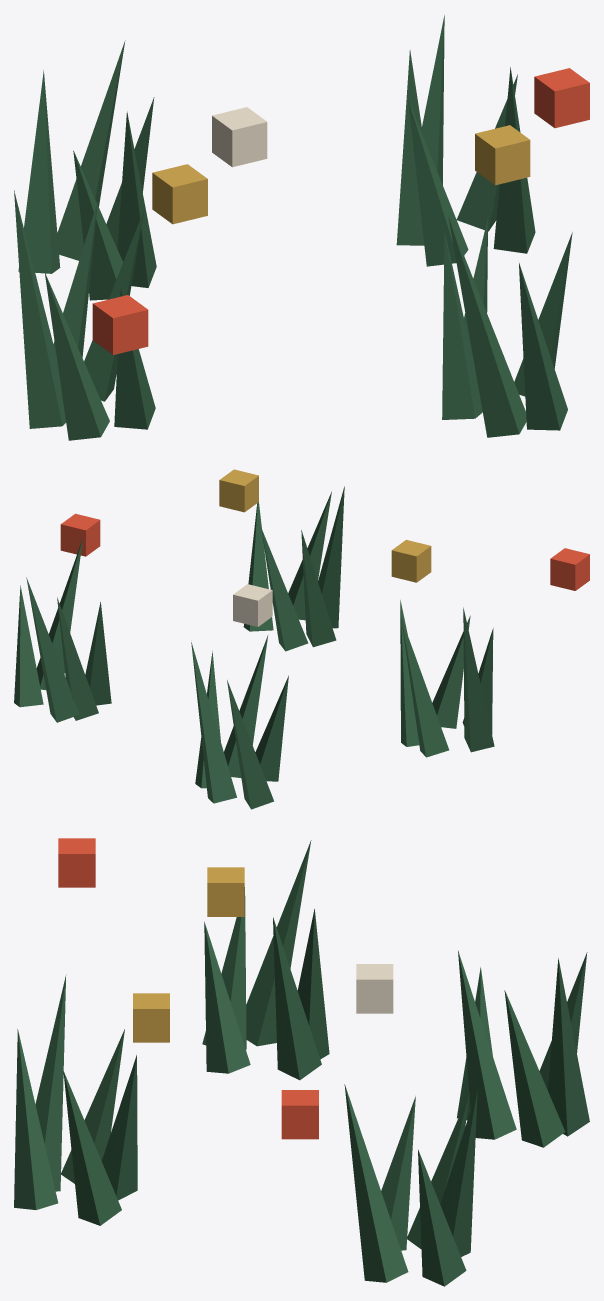
File: terrain_bush_flower.glb
3 renders of one model, top to bottom at view 1: azimuth 30°, elevation 25°; view 2: azimuth 150°, elevation 25°; view 3: azimuth 270°, elevation 25°, orthographic. The views are drawn at different scales.
Visible parts, largest first — view 1: terrain_bush_flower; view 2: terrain_bush_flower; view 3: terrain_bush_flower.
Boxes of the visible parts, x1,y1,x2,y2 form: terrain_bush_flower: (14, 15, 589, 440); terrain_bush_flower: (14, 469, 589, 809); terrain_bush_flower: (14, 838, 589, 1286).
Bounding box in the file's own units: 1.71 × 0.6448 × 1.55.
